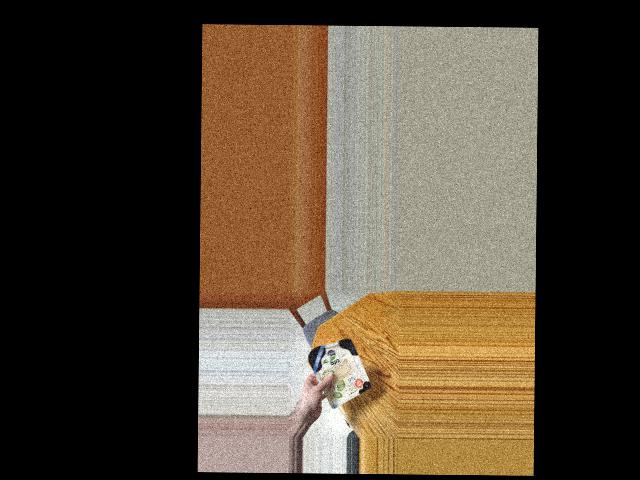cheese: (303, 337, 368, 402)
